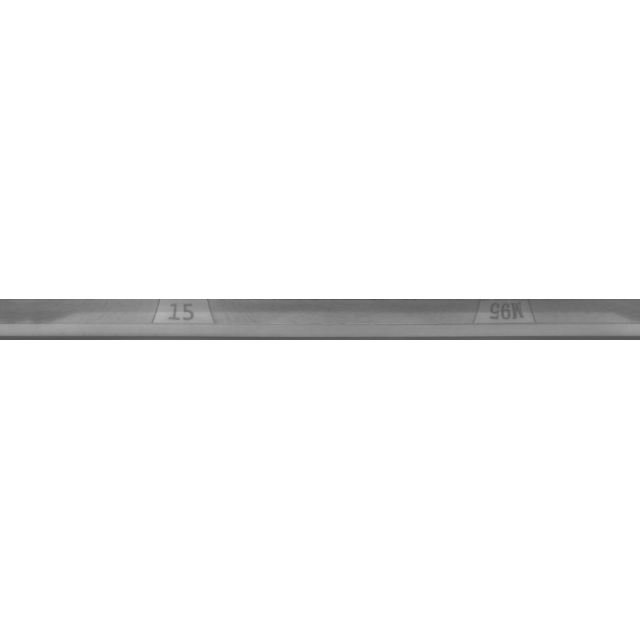mohao: (419, 270, 619, 370)
xuehao: (82, 270, 282, 370)
